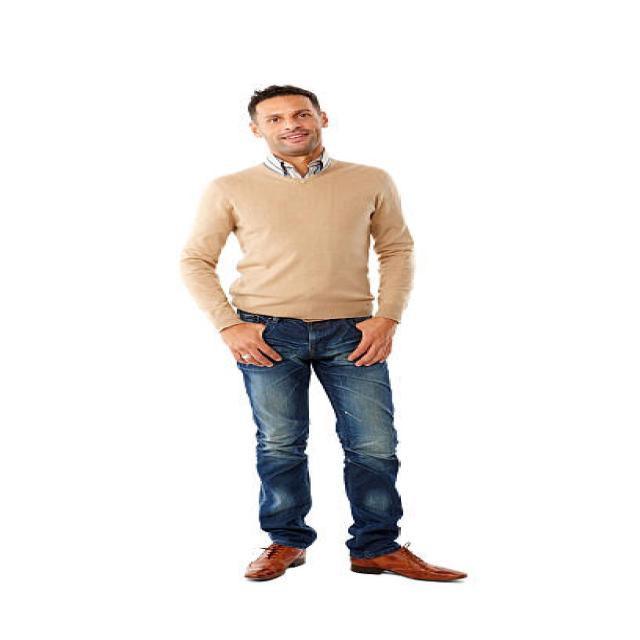Edited images: (168, 78, 492, 592)
